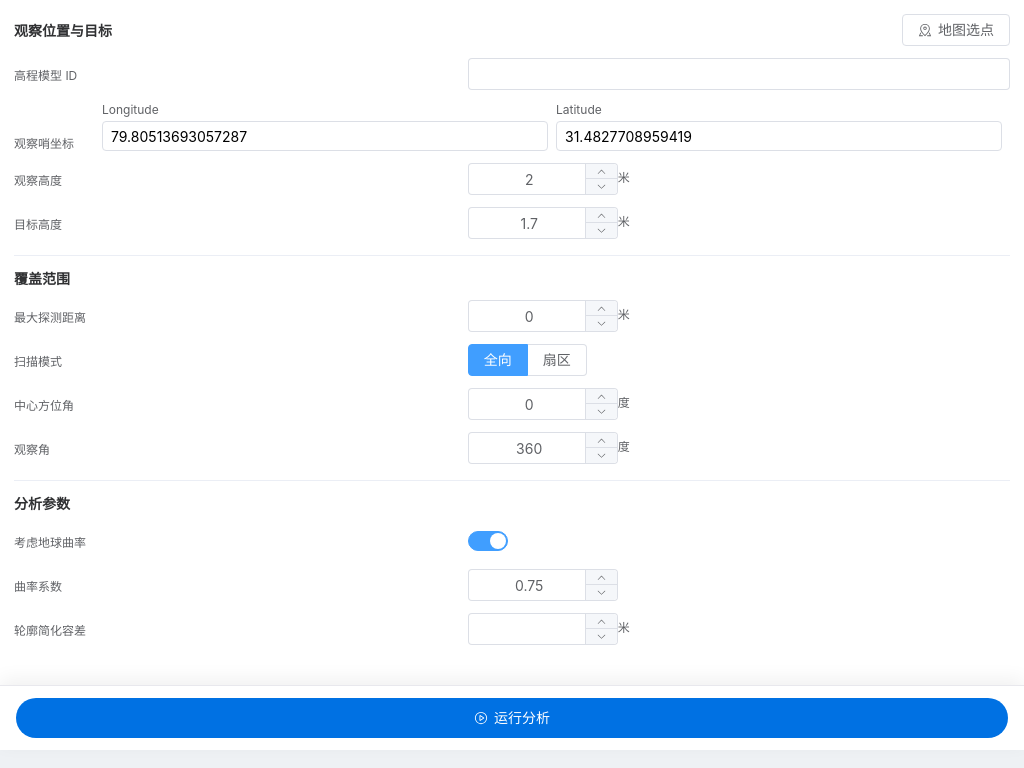
Test case: ModelParameterPanel › shows the watchpost positive-range issue and blocks submit
What coordinates should you click on to do the following:
click the button "运行分析"
I would click on:
 (512, 718)
Its box is [16,698,1008,738].
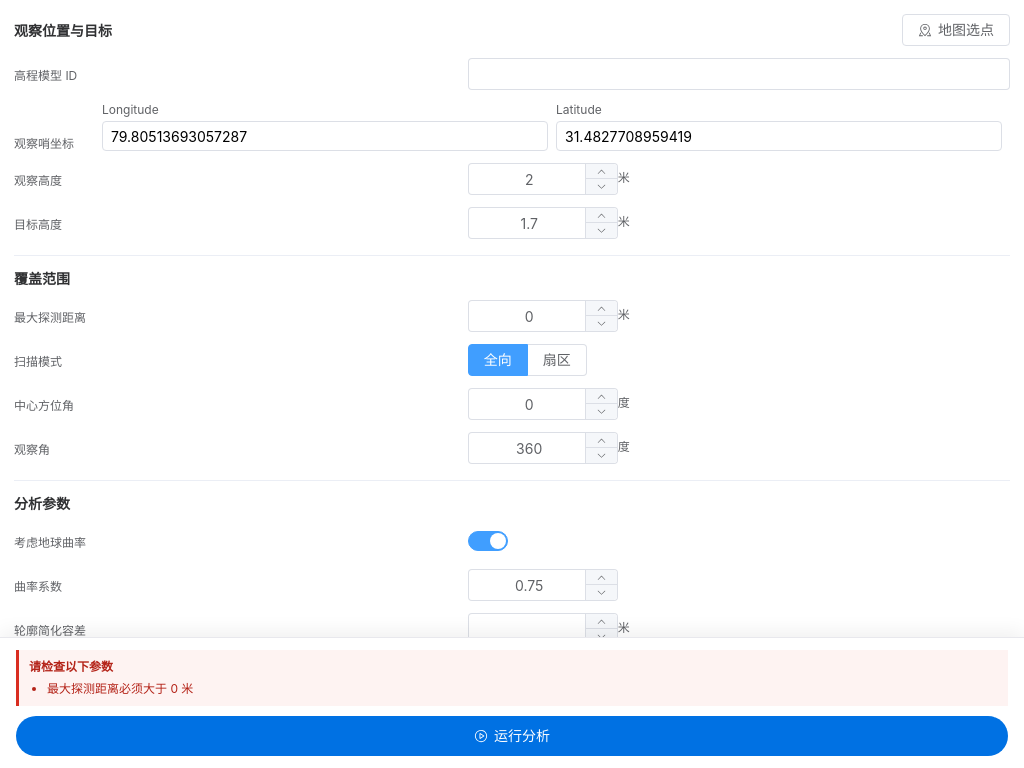
Now the text "最大探测距离必须大于 0 米" is shown, box [47,682,193,697]
